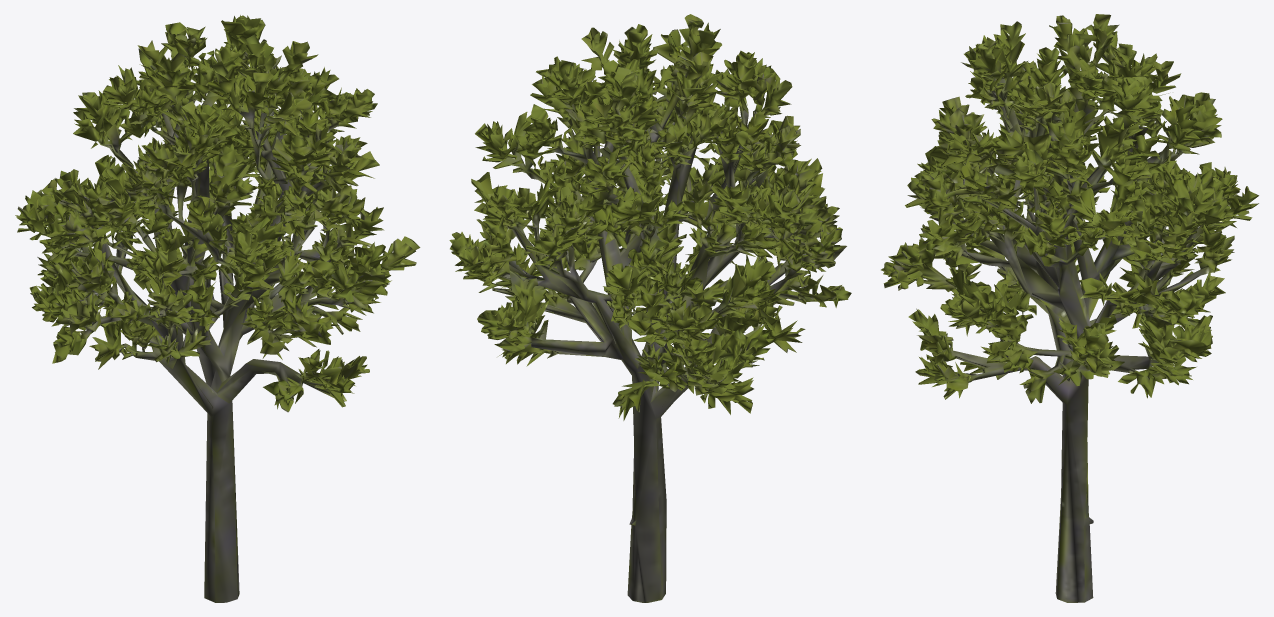
Rendered from tree_12_oak_green.glb.
3 renders of one model, left to right at view 1: azimuth 30°, elevation 25°; view 2: azimuth 150°, elevation 25°; view 3: azimuth 270°, elevation 25°, orthographic.
Visible parts, largest first — view 1: geometry_0; view 2: geometry_0; view 3: geometry_0.
Boxes of the visible parts, bbox=[...] form: geometry_0: bbox=[15, 15, 420, 602]; geometry_0: bbox=[449, 14, 851, 602]; geometry_0: bbox=[881, 14, 1258, 602].
Bounding box in the file's own units: 0.6542 × 1 × 0.6171.
1 material, 1 textured.
